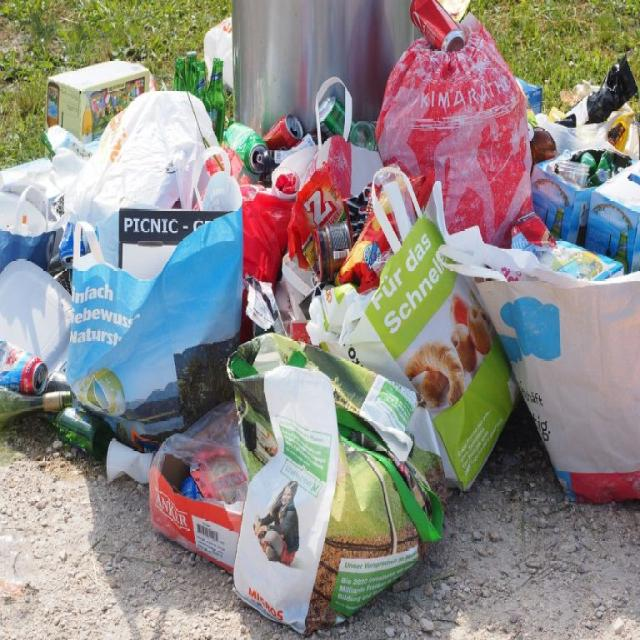Kertas: (41, 91, 617, 609)
